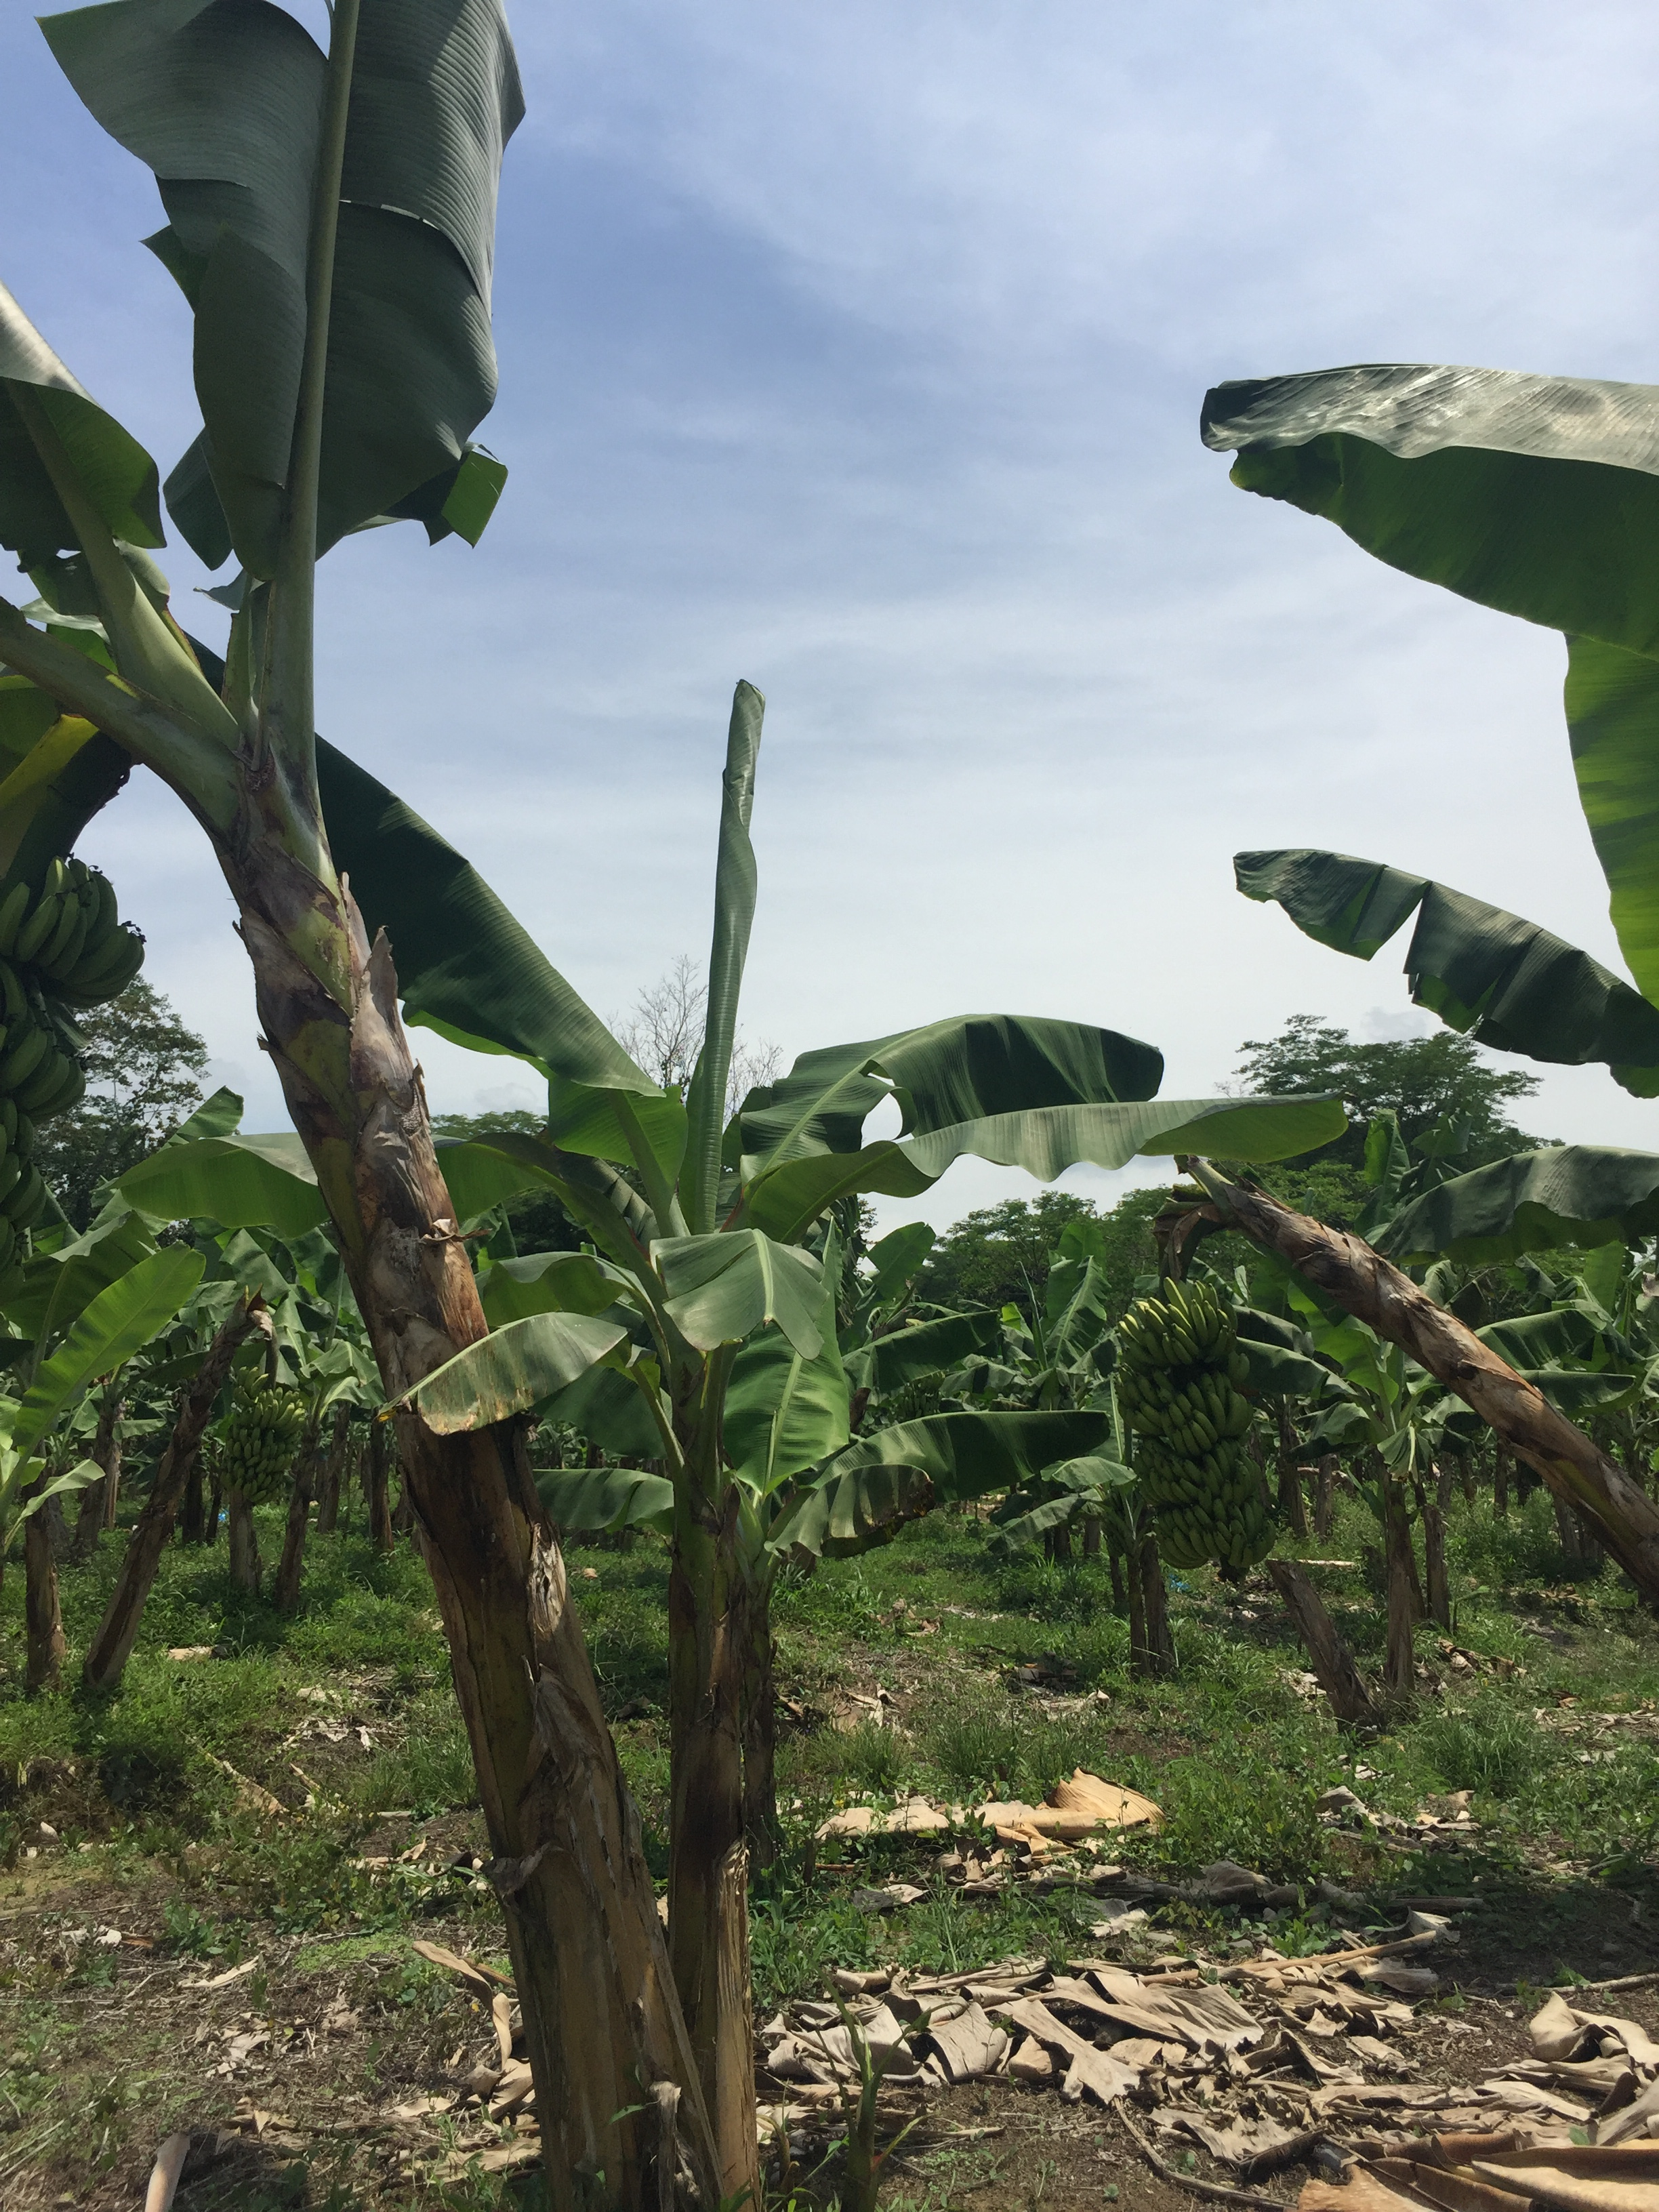candleleafs: (685, 678, 765, 1233), (1016, 1261, 1049, 1372)
